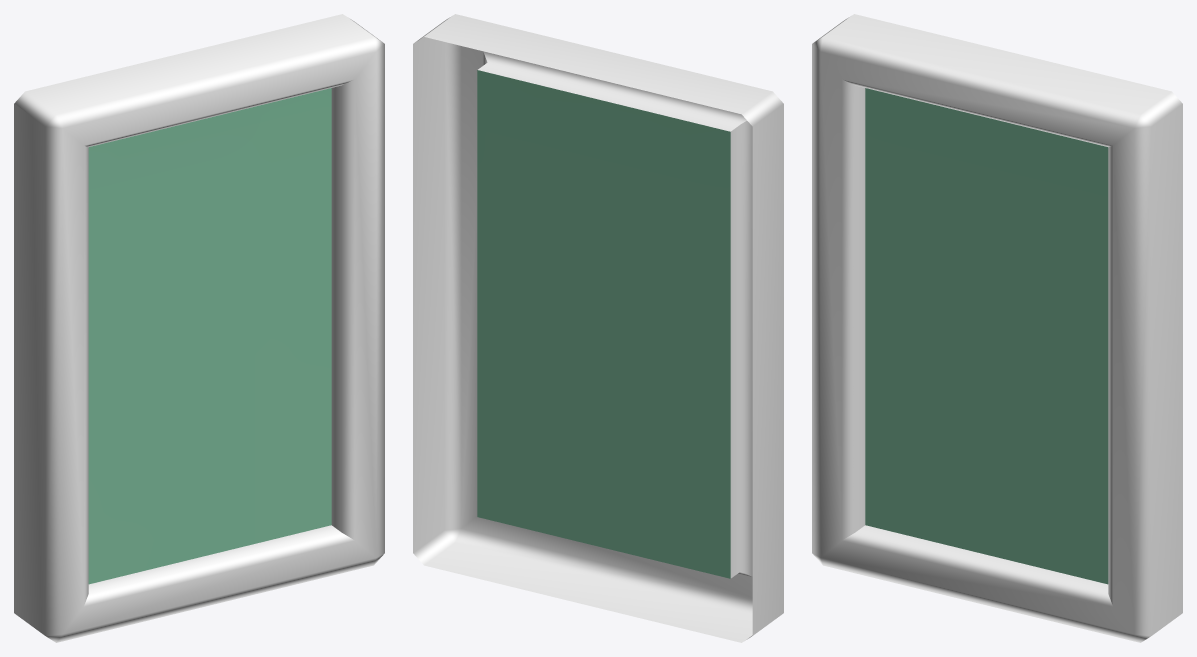
File: Decor_Khungtranh_01.fbx
3 views of the same model, side by side, from view 1: azimuth 30°, elevation 25°; view 2: azimuth 150°, elevation 25°; view 3: azimuth 330°, elevation 25° (orthographic).
Parts seen in each view (by area): view 1: Decor_Khungtranh_01; view 2: Decor_Khungtranh_01; view 3: Decor_Khungtranh_01.
Boxes of the visible parts, x1=… form: Decor_Khungtranh_01: x1=14, y1=14, x2=384, y2=642; Decor_Khungtranh_01: x1=413, y1=14, x2=783, y2=642; Decor_Khungtranh_01: x1=812, y1=14, x2=1182, y2=642.
Bounding box in the file's own units: 79.18 × 118 × 14.38.
